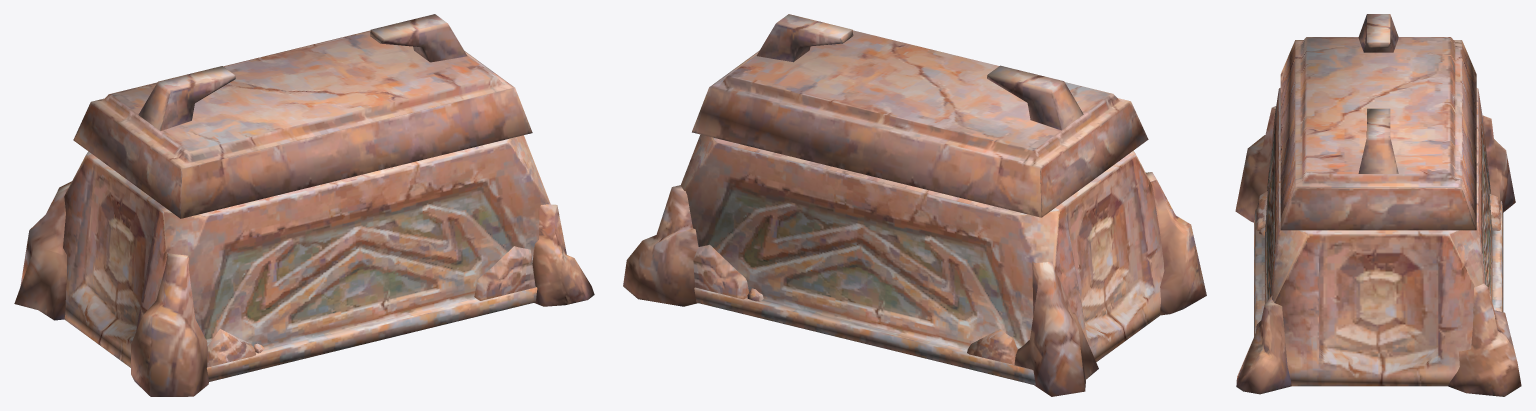
Rendered from item_con_crate_ancient_01.glb.
The picture shows the model from 3 angles, left to right: view 1: azimuth 30°, elevation 25°; view 2: azimuth 150°, elevation 25°; view 3: azimuth 270°, elevation 25°; orthographic projection. The views are drawn at different scales.
Visible parts, largest first — view 1: item_con_crate_ancient_01; view 2: item_con_crate_ancient_01; view 3: item_con_crate_ancient_01.
Boxes of the visible parts, x1=… form: item_con_crate_ancient_01: x1=14, y1=14, x2=594, y2=396; item_con_crate_ancient_01: x1=623, y1=14, x2=1206, y2=396; item_con_crate_ancient_01: x1=1235, y1=14, x2=1521, y2=396.
Size of the model in its own units: 0.3036 by 0.153 by 0.1808.
Materials: 1 (1 with a texture image).
